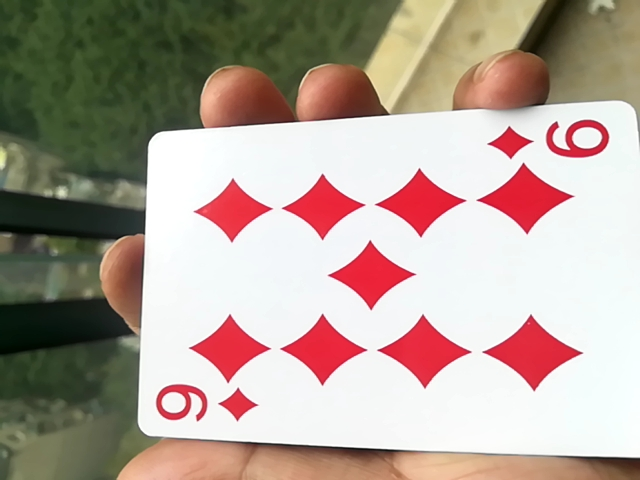fk 9: (122, 109, 639, 467)
